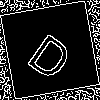D: (25, 25, 81, 83)
